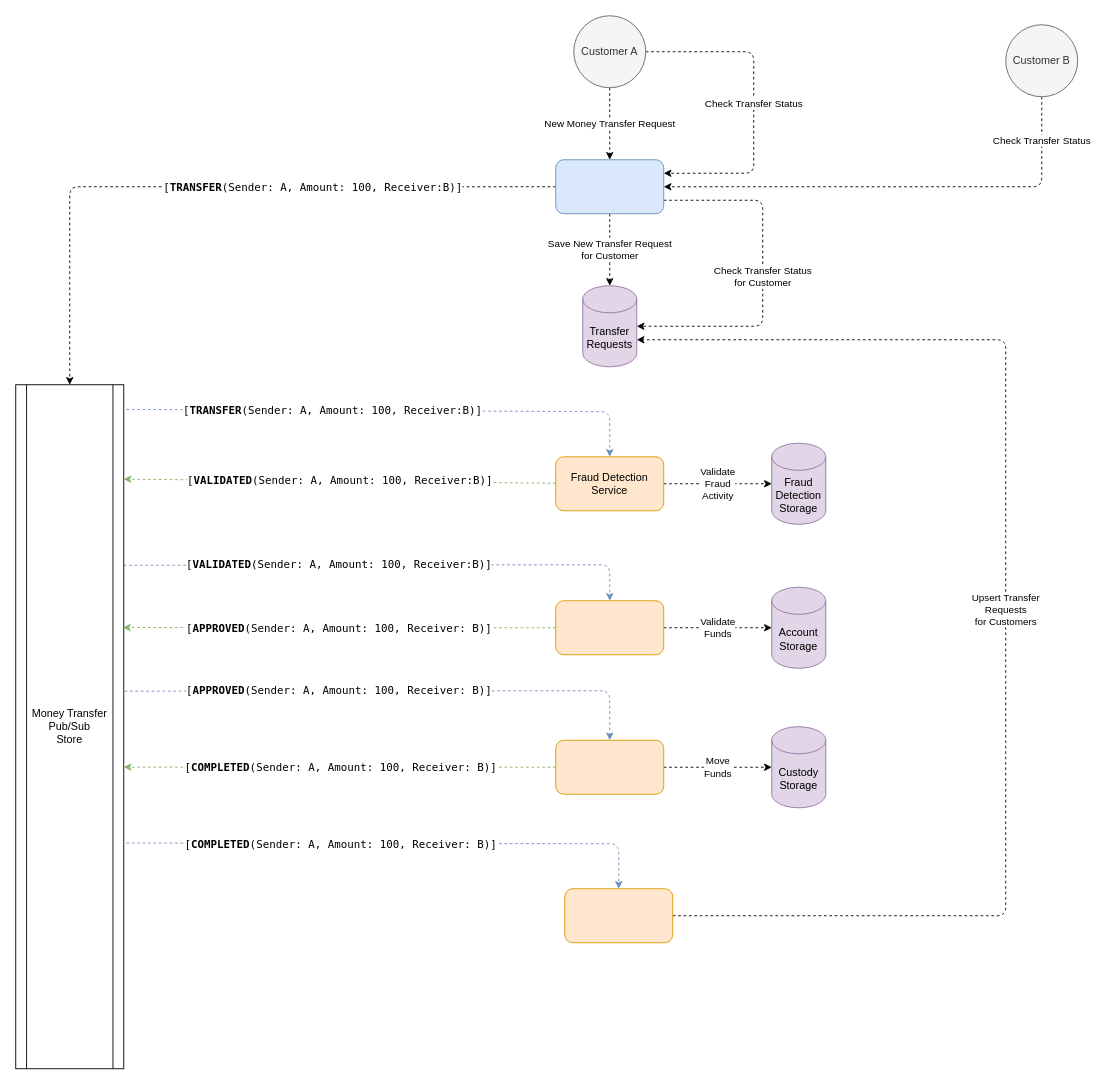
This 1106x1085 diagram has some shape labels left out. The centre of each missing label's shape, as x and y in pixels:
"Account Service" goes at (x=609, y=627).
"Custody Service" goes at (x=609, y=766).
"Notification Service" goes at (x=618, y=915).
"Public API" goes at (x=609, y=186).
